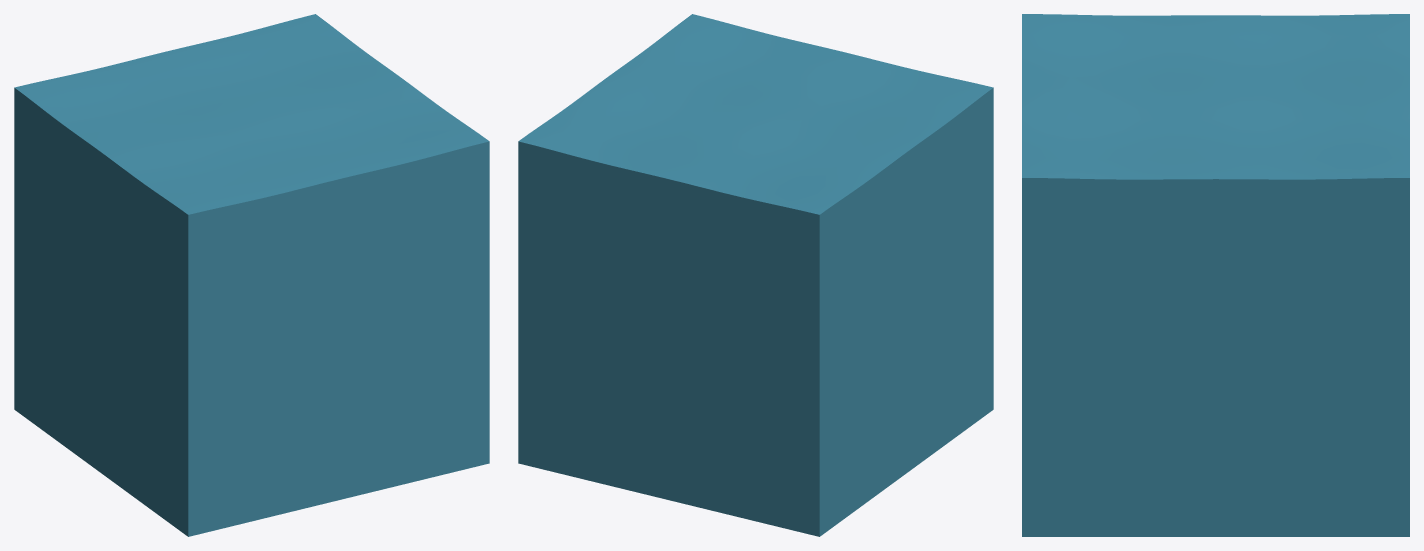
Rendered from slpool_wave44.glb.
3 renders of one model, left to right at view 1: azimuth 30°, elevation 25°; view 2: azimuth 150°, elevation 25°; view 3: azimuth 270°, elevation 25°, orthographic. The views are drawn at different scales.
Parts seen in each view (by area): view 1: poolWater; view 2: poolWater; view 3: poolWater.
Part boxes in pixels (bbox=[...]): poolWater: bbox=[14, 14, 489, 536]; poolWater: bbox=[518, 14, 993, 536]; poolWater: bbox=[1022, 14, 1409, 536].
Bounding box in the file's own units: 2 × 2.04 × 2.
